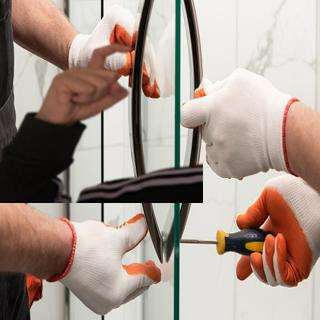WHY: (36, 40, 137, 124)
